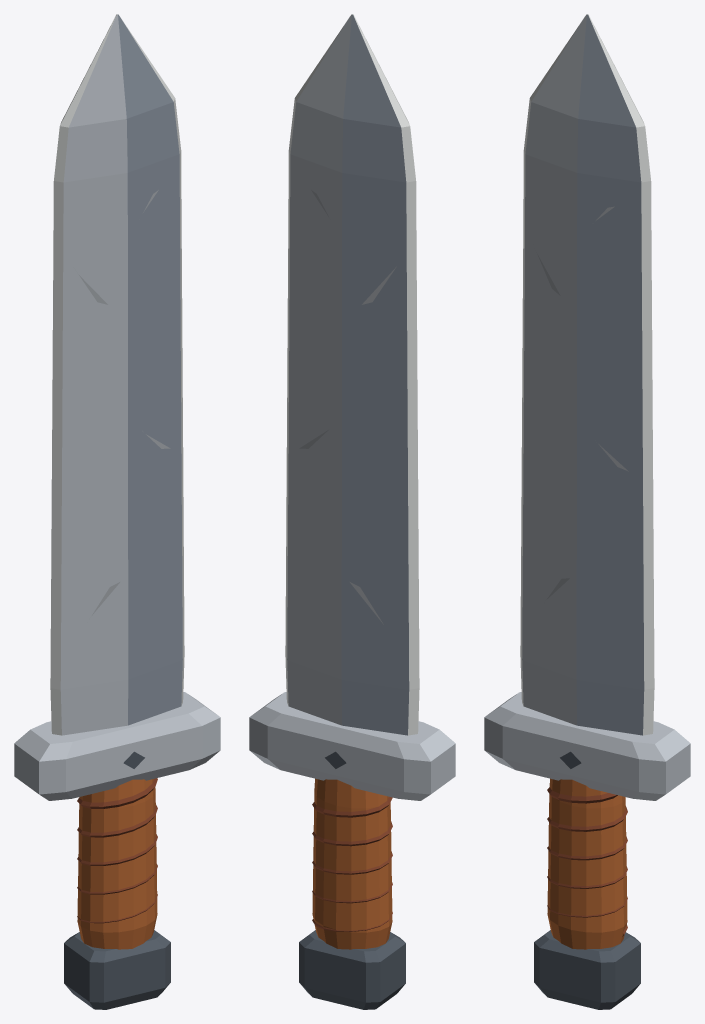
Rendered from wsc-gear-001-sword.glb.
3 views of the same model, side by side, from view 1: azimuth 30°, elevation 25°; view 2: azimuth 150°, elevation 25°; view 3: azimuth 330°, elevation 25° (orthographic).
Parts seen in each view (by area): view 1: WSC-GEAR-001 Sword | Inventory pivot; view 2: WSC-GEAR-001 Sword | Inventory pivot; view 3: WSC-GEAR-001 Sword | Inventory pivot.
Part boxes in pixels (x1,y1,x2,y2): WSC-GEAR-001 Sword | Inventory pivot: (14,14,220,1009); WSC-GEAR-001 Sword | Inventory pivot: (249,14,455,1009); WSC-GEAR-001 Sword | Inventory pivot: (484,14,690,1009).
Size of the model in its own units: 0.214 by 1.1 by 0.07.
